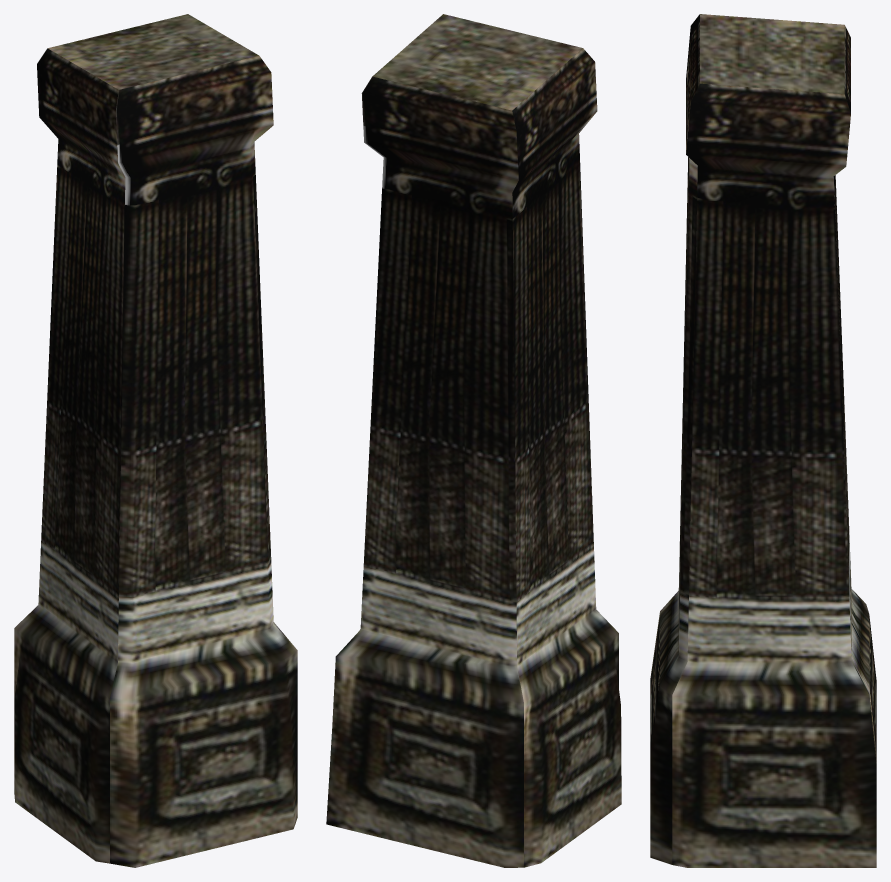
File: SF_pillar.FBX
3 renders of one model, left to right at view 1: azimuth 30°, elevation 25°; view 2: azimuth 150°, elevation 25°; view 3: azimuth 270°, elevation 25°, orthographic.
Parts seen in each view (by area): view 1: Box14; view 2: Box14; view 3: Box14.
Part boxes in pixels (bbox=[...]): Box14: bbox=[14, 14, 297, 867]; Box14: bbox=[326, 14, 621, 867]; Box14: bbox=[650, 14, 876, 867].
Bounding box in the file's own units: 33.73 × 121 × 32.24.
Materials: 1 (1 with a texture image).
